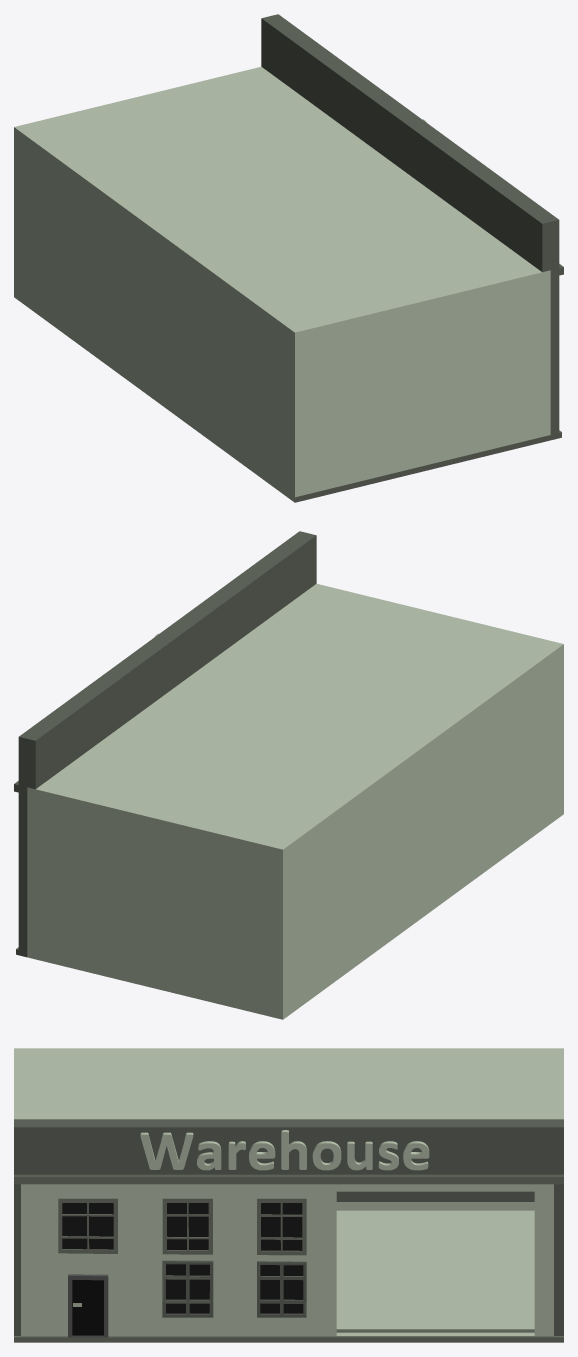
The model's file is Sklad2.fbx.
The picture shows the model from 3 angles, top to bottom: view 1: azimuth 30°, elevation 25°; view 2: azimuth 150°, elevation 25°; view 3: azimuth 270°, elevation 25°; orthographic projection. The views are drawn at different scales.
Parts seen in each view (by area): view 1: Text; view 2: Text; view 3: Text.
Part boxes in pixels (<box>): Text: <box>14,14,563,502</box>; Text: <box>14,531,563,1019</box>; Text: <box>14,1048,563,1342</box>.
Size of the model in its own units: 980 by 760 by 1771.
